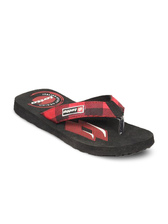shoes: (9, 80, 159, 158)
